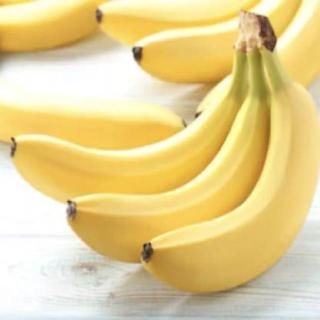banana: (138, 84, 320, 298), (65, 94, 283, 268), (7, 85, 259, 214)
